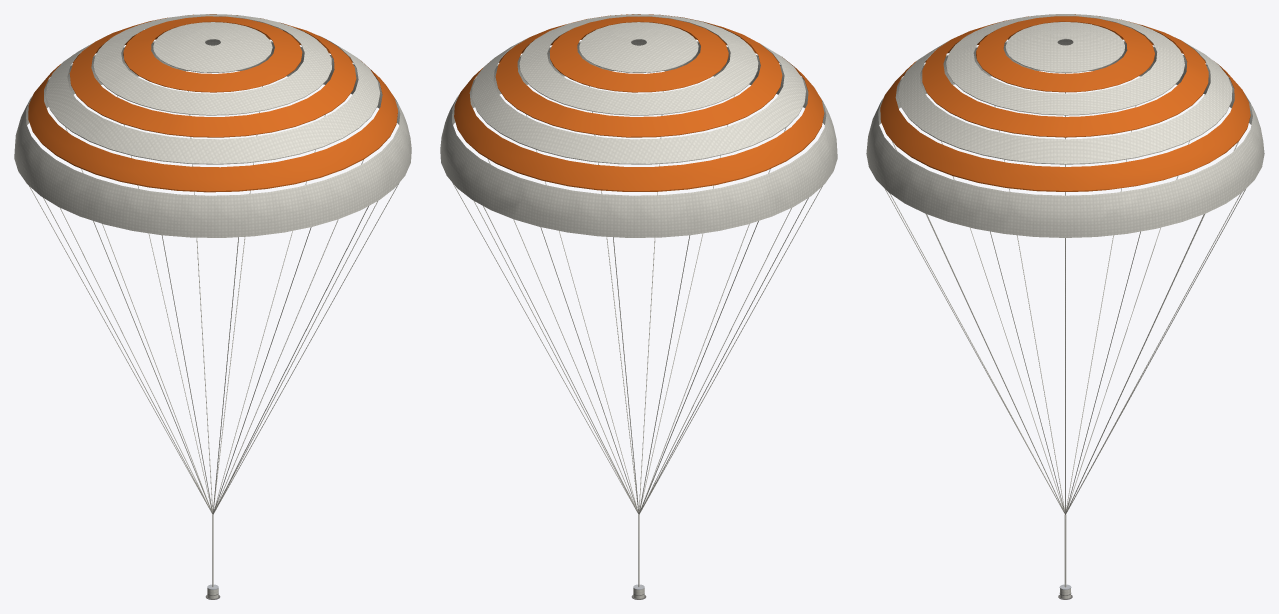
File: stage08_main_chute_m_deployed.glb
3 renders of one model, left to right at view 1: azimuth 30°, elevation 25°; view 2: azimuth 150°, elevation 25°; view 3: azimuth 270°, elevation 25°, orthographic.
Parts seen in each view (by area): view 1: canopy_ring_6, canopy_ring_5, canopy_ring_4, canopy_ring_3, canopy_ring_2, lines_riser, canopy_ring_1, canopy_ring_0; view 2: canopy_ring_6, canopy_ring_5, canopy_ring_4, canopy_ring_3, canopy_ring_2, lines_riser, canopy_ring_1, canopy_ring_0; view 3: canopy_ring_6, canopy_ring_5, canopy_ring_4, canopy_ring_3, canopy_ring_2, canopy_ring_1, lines_riser, canopy_ring_0.
Boxes of the visible parts, <box> form: canopy_ring_6: <box>14,39,411,237</box>; canopy_ring_5: <box>28,27,397,192</box>; canopy_ring_4: <box>46,23,380,164</box>; canopy_ring_3: <box>69,14,356,137</box>; canopy_ring_2: <box>93,14,331,115</box>; lines_riser: <box>29,71,399,586</box>; canopy_ring_1: <box>123,16,302,92</box>; canopy_ring_0: <box>153,22,272,72</box>; canopy_ring_6: <box>440,39,837,237</box>; canopy_ring_5: <box>454,24,824,191</box>; canopy_ring_4: <box>472,22,805,164</box>; canopy_ring_3: <box>495,14,782,137</box>; canopy_ring_2: <box>519,14,758,115</box>; lines_riser: <box>452,71,822,586</box>; canopy_ring_1: <box>549,16,728,92</box>; canopy_ring_0: <box>579,22,698,72</box>; canopy_ring_6: <box>866,39,1264,237</box>; canopy_ring_5: <box>880,25,1250,191</box>; canopy_ring_4: <box>898,22,1232,164</box>; canopy_ring_3: <box>922,14,1208,137</box>; canopy_ring_2: <box>946,14,1184,115</box>; canopy_ring_1: <box>976,16,1154,92</box>; lines_riser: <box>885,73,1245,587</box>; canopy_ring_0: <box>1005,22,1124,72</box>.
Bounding box in the file's own units: 30 × 46.12 × 30.
4 materials, 3 textured.
